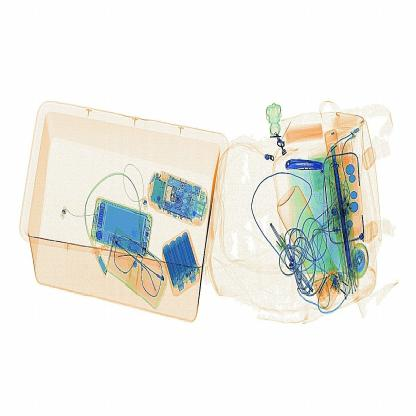knife: (277, 150, 325, 181)
